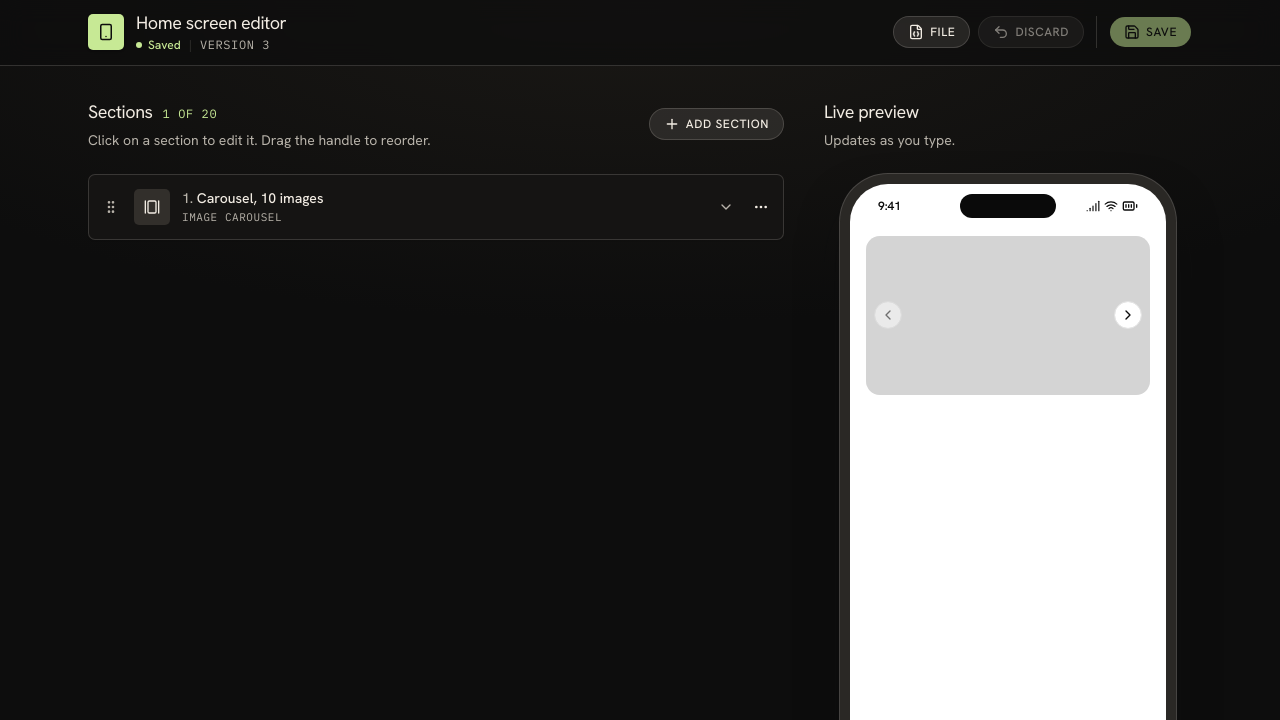
EditorScreen › stops adding images at the carousel limit
The image size is (1280, 720).
Step 1. Click the button "1. Carousel, 10 images Image carousel" → [152, 206], box [89, 174, 783, 238]
(page scrolled)
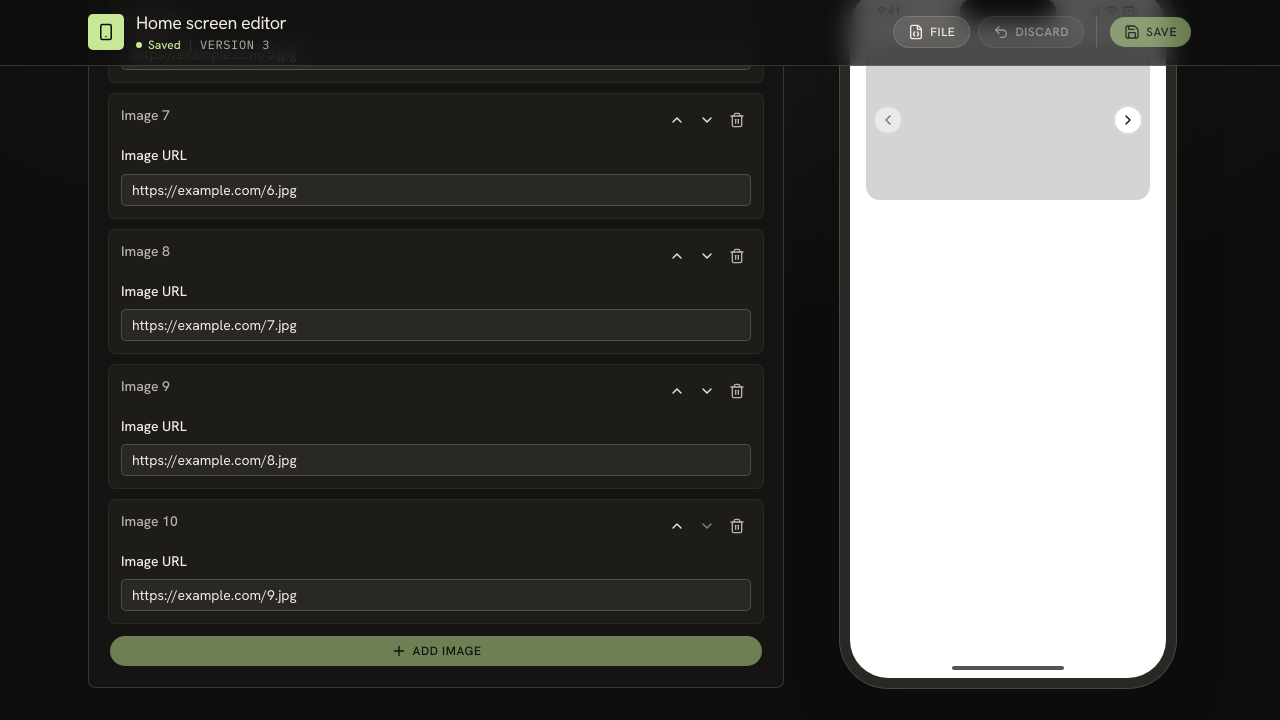
Result: the button "Add image" is disabled at [109, 635, 763, 667]
